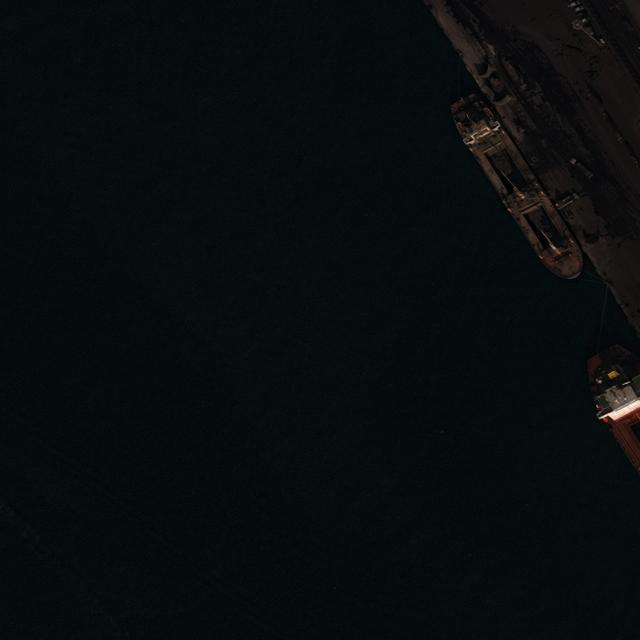Cargo: (445, 86, 592, 291)
Container Ship: (584, 345, 640, 479)
